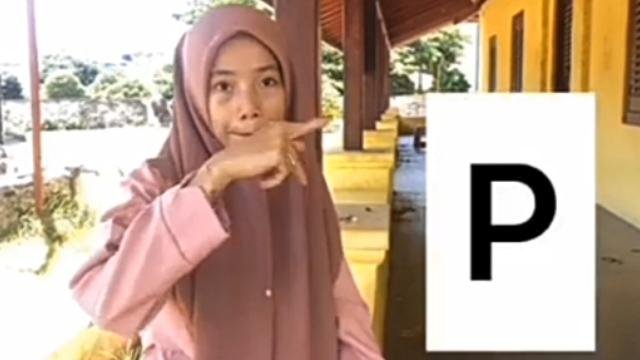P: (222, 113, 336, 191)
